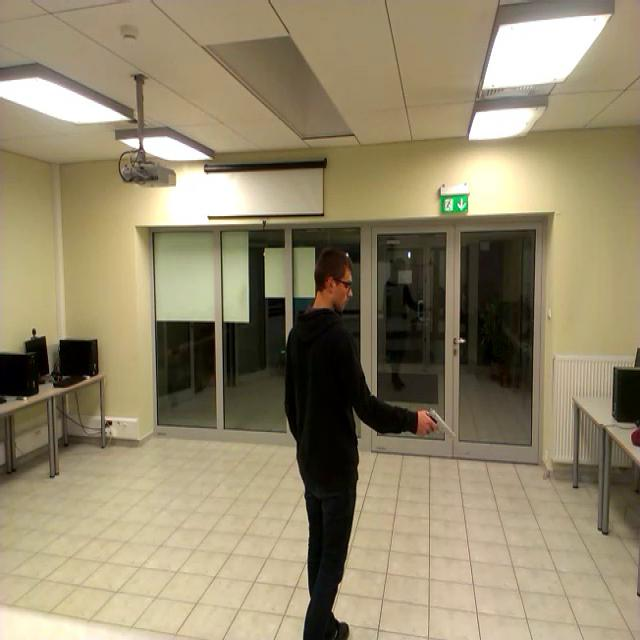handgun: (420, 404, 464, 450)
